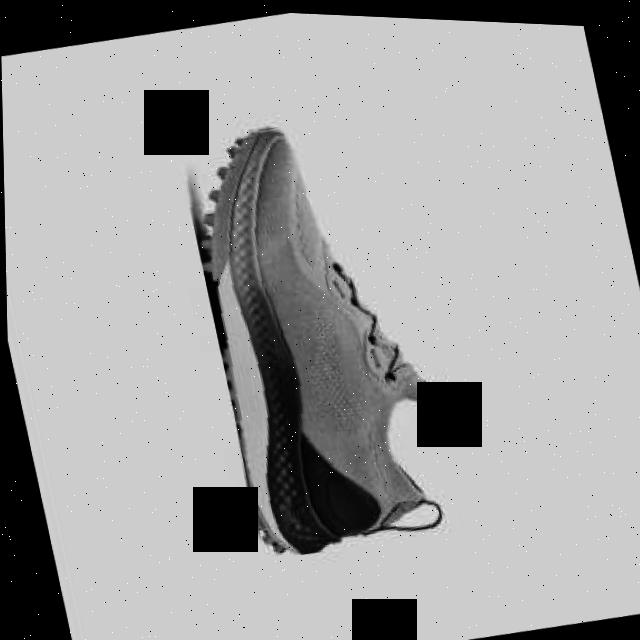shoe: (174, 95, 487, 566)
